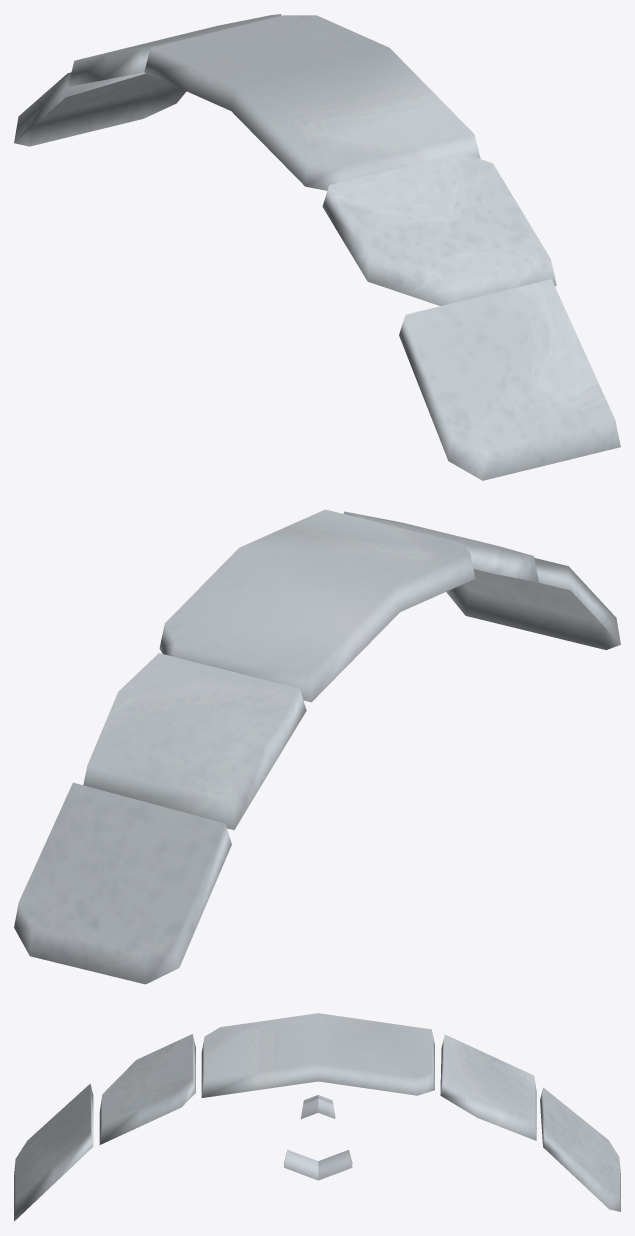
The model's file is Deco_1_Snow.fbx.
The picture shows the model from 3 angles, top to bottom: view 1: azimuth 30°, elevation 25°; view 2: azimuth 150°, elevation 25°; view 3: azimuth 270°, elevation 25°; orthographic projection. The views are drawn at different scales.
Parts seen in each view (by area): view 1: Deco_1_Snow; view 2: Deco_1_Snow; view 3: Deco_1_Snow.
Part boxes in pixels (box(x1,y1,x2,y2)): Deco_1_Snow: box(14, 14, 620, 480); Deco_1_Snow: box(14, 509, 620, 984); Deco_1_Snow: box(14, 1013, 620, 1221).
Bounding box in the file's own units: 100 × 138 × 482.
